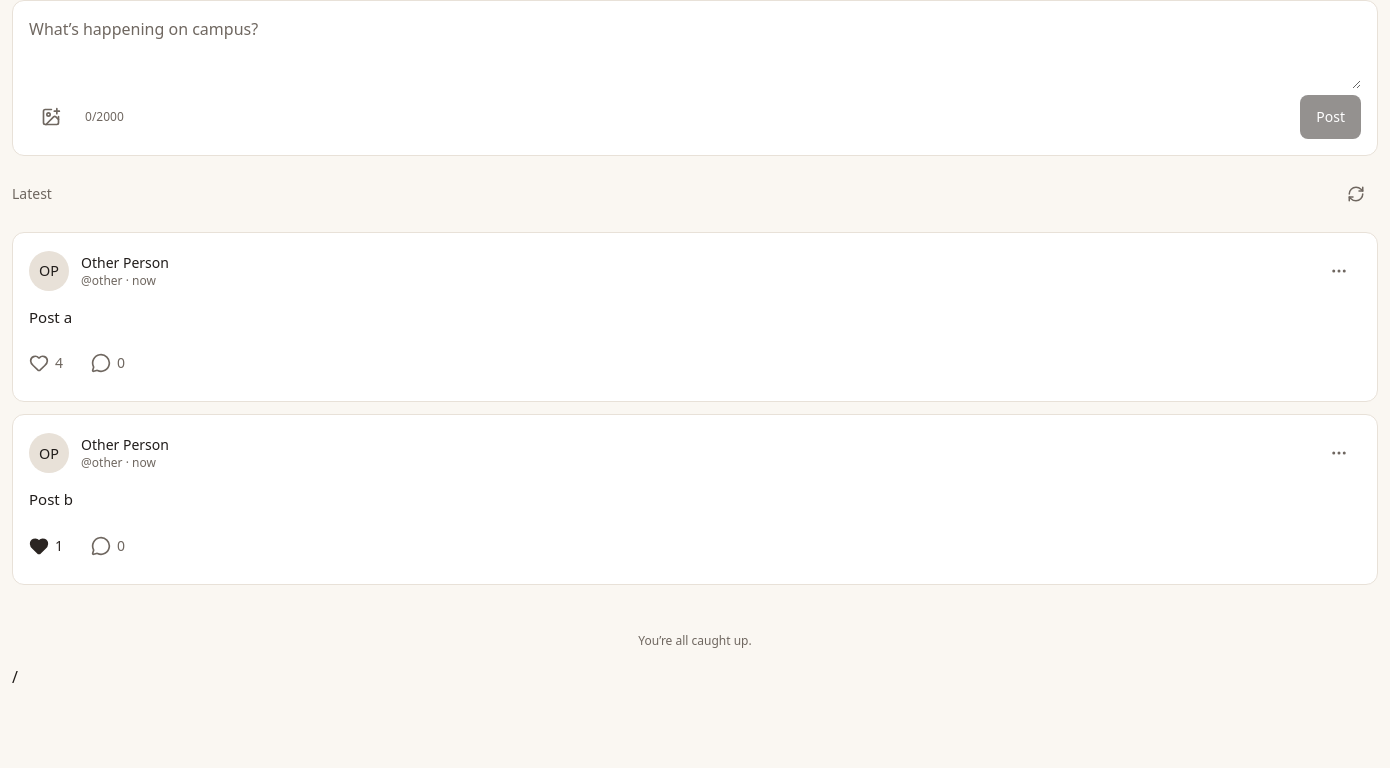
Test case: likes › updates instantly, then takes the server's numbers
What coordinates should you click on to do the following:
click the button named "Like (4 likes)"
I would click on:
 (50, 363)
Its box is top-left (29, 341), bottom-right (71, 385).
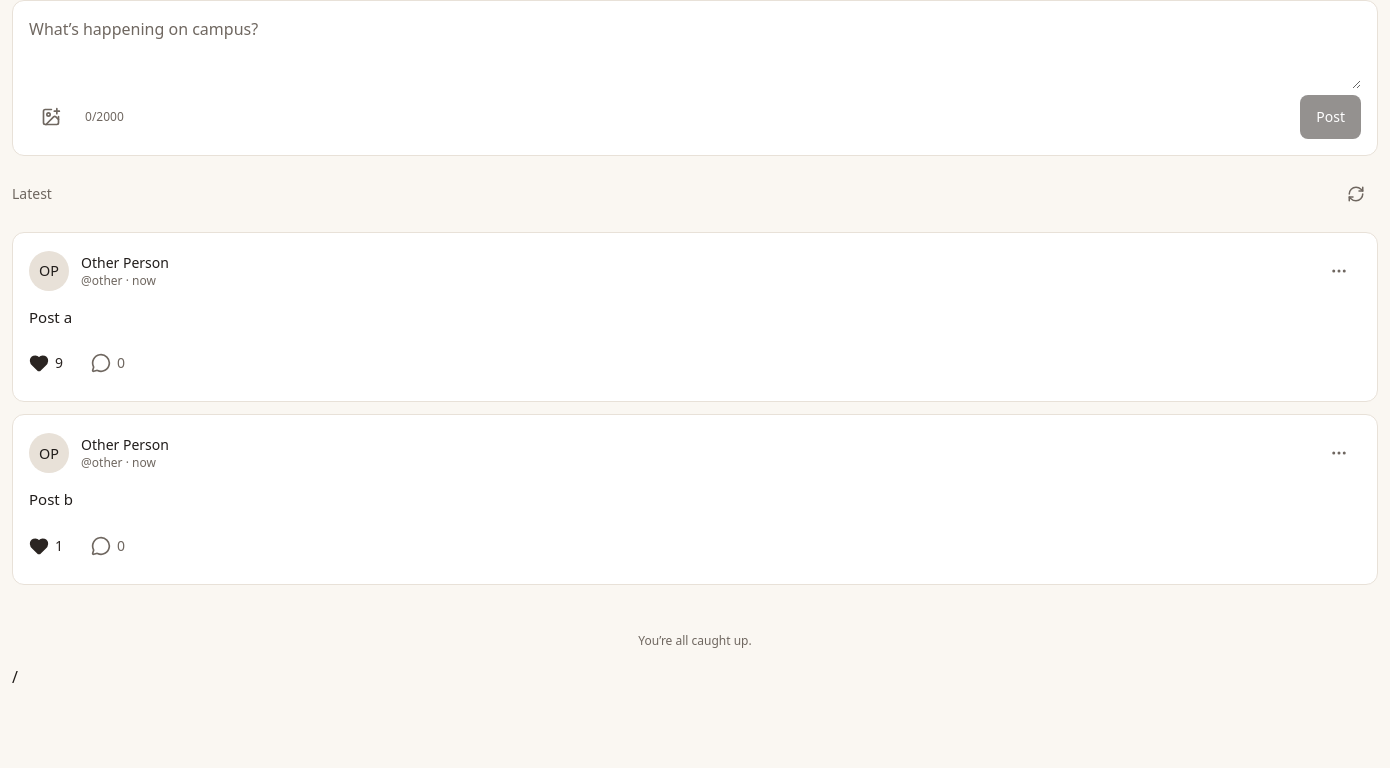
Expected: the button named "Unlike (5 likes)" is pressed, top-left (29, 341), bottom-right (71, 385)
